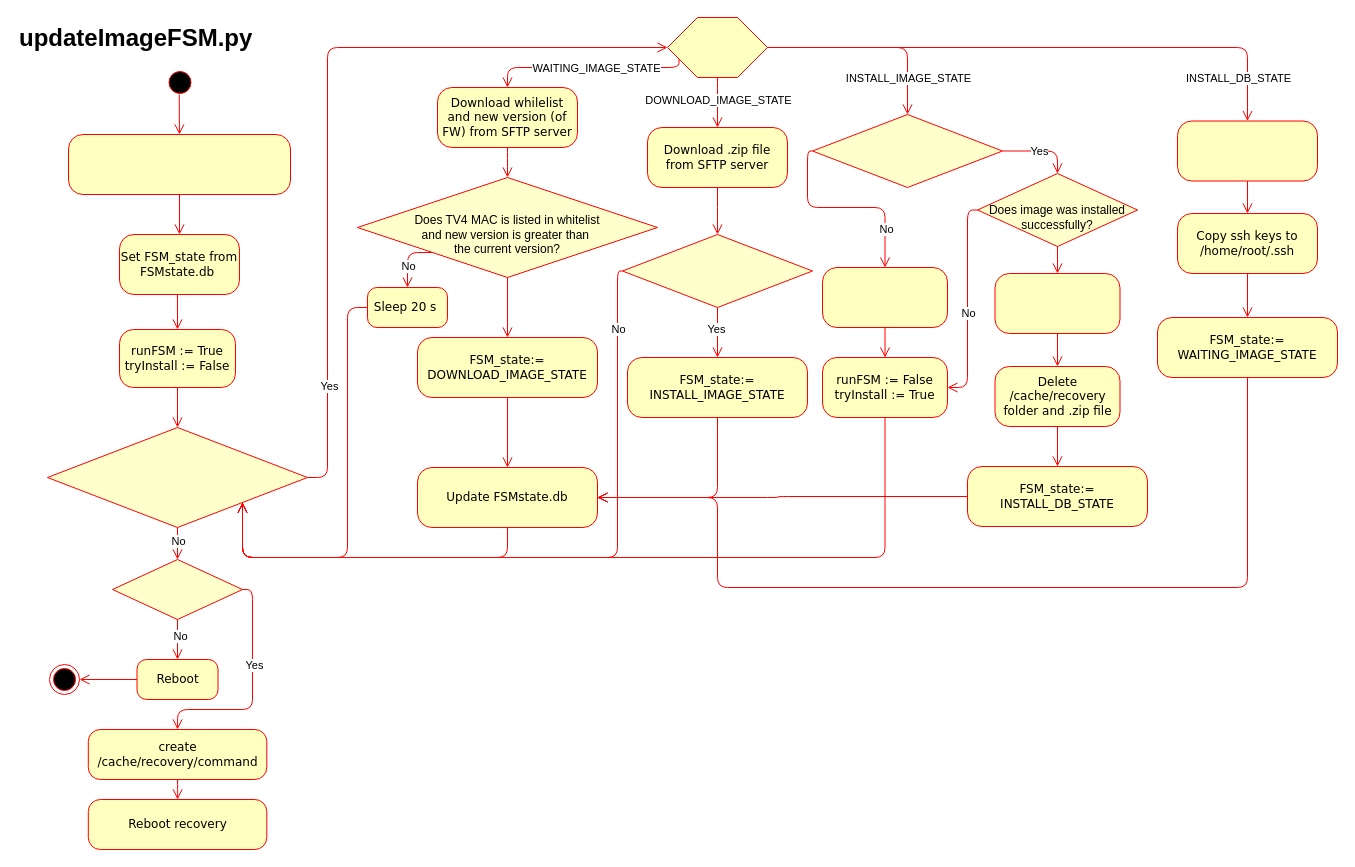
Some shapes in this 1355 by 867 pixel diagram are drawn without their labels. Each missing label, with the centre of its shape:
"Create /cache/recovery folder" belongs at (x=885, y=297).
"Create file updateImageFSM_L4_py.pid" belongs at (x=179, y=164).
"Does .zip file was downloaded successfully ?" belongs at (x=717, y=271).
"Does /cache/recovery folder exists?" belongs at (x=907, y=151).
"Does StateMonitorGPIO_L4_py.pid exist and runFSM = True ?" belongs at (x=177, y=477).
"FSM_state" belongs at (x=717, y=47).
"tryInstall = True ?" belongs at (x=177, y=589).
"Update current version file" belongs at (x=1057, y=303).
"Update db_lasec.sql" belongs at (x=1247, y=150).
